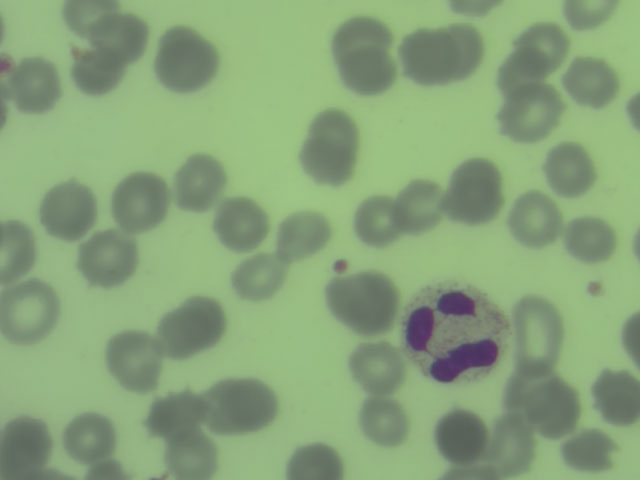Platelets: (325, 255, 354, 279), (584, 278, 610, 298), (1, 52, 19, 80)
RBC: (509, 295, 566, 370), (160, 294, 222, 354), (276, 207, 330, 261), (505, 361, 559, 415), (562, 210, 616, 264), (507, 191, 561, 245), (543, 141, 597, 195), (447, 164, 501, 218), (392, 179, 446, 233), (348, 193, 402, 247), (303, 118, 357, 172), (564, 55, 618, 109), (504, 84, 558, 138), (491, 54, 545, 108), (516, 21, 570, 75), (440, 22, 494, 76), (396, 29, 450, 83), (343, 44, 397, 98), (210, 375, 264, 429), (150, 384, 204, 438), (171, 154, 225, 208), (111, 175, 165, 229), (79, 231, 133, 285), (107, 334, 161, 388), (64, 410, 118, 464), (40, 184, 94, 238), (158, 32, 212, 86), (70, 46, 124, 100), (96, 9, 150, 63), (9, 55, 63, 109), (356, 393, 410, 447), (433, 405, 487, 459), (484, 421, 538, 475), (530, 383, 584, 437), (586, 371, 640, 425), (230, 251, 284, 305), (216, 194, 270, 248), (337, 275, 391, 329), (351, 340, 405, 394), (328, 12, 394, 55), (1, 419, 53, 473), (1, 284, 53, 338), (1, 215, 42, 283), (563, 427, 616, 477), (163, 432, 218, 480), (284, 440, 344, 480), (62, 1, 118, 34), (559, 1, 619, 29)
WBC: (399, 284, 505, 389)
